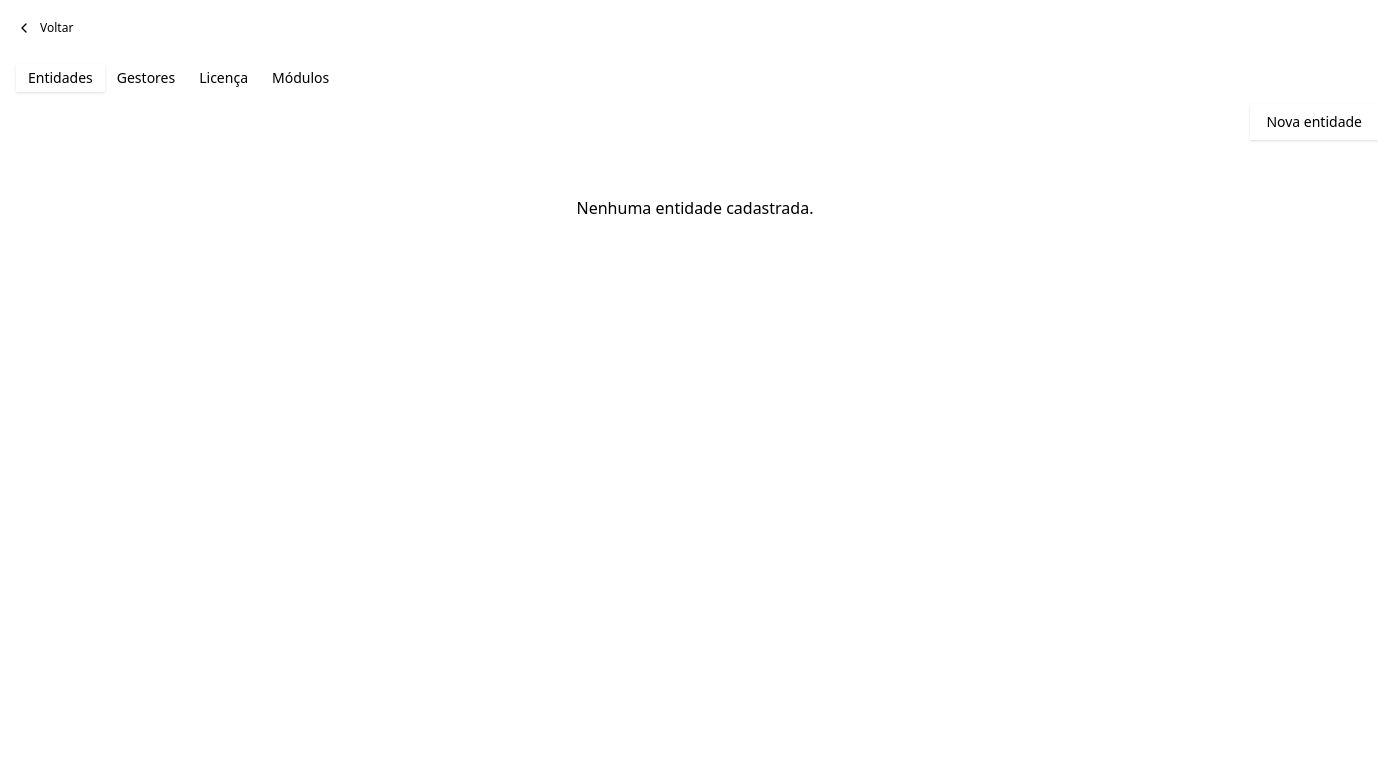
InstalacaoDetalhePage › aba Módulos mostra path do catálogo
Click the tab "Módulos".
click(301, 78)  # box [260,64,341,92]
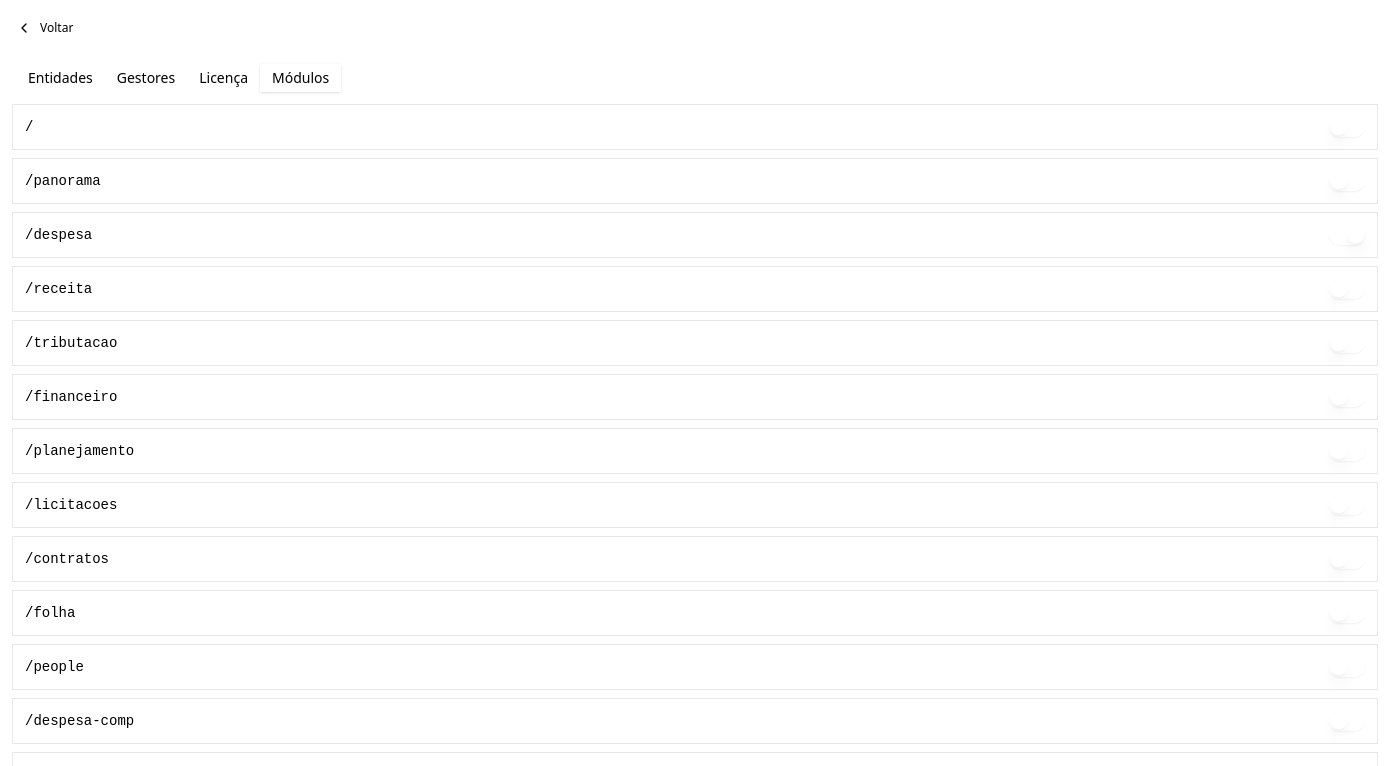
Result: the text "/despesa" is shown at [25,225,92,245]
